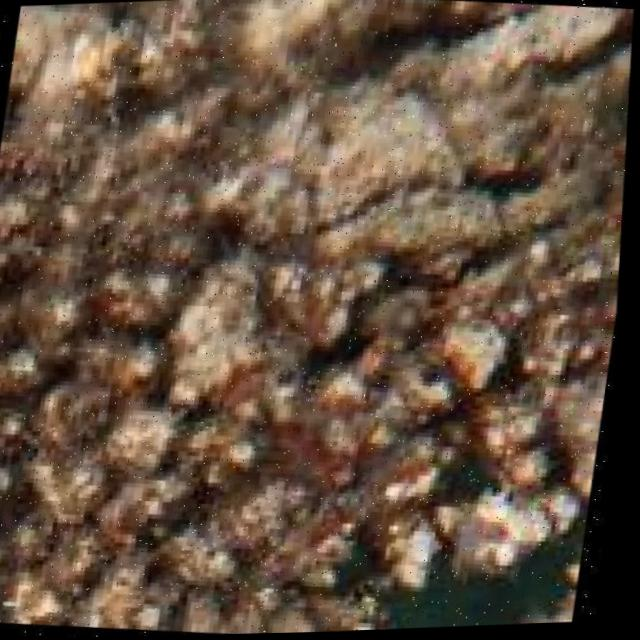Dead Coral: (0, 37, 609, 632)
